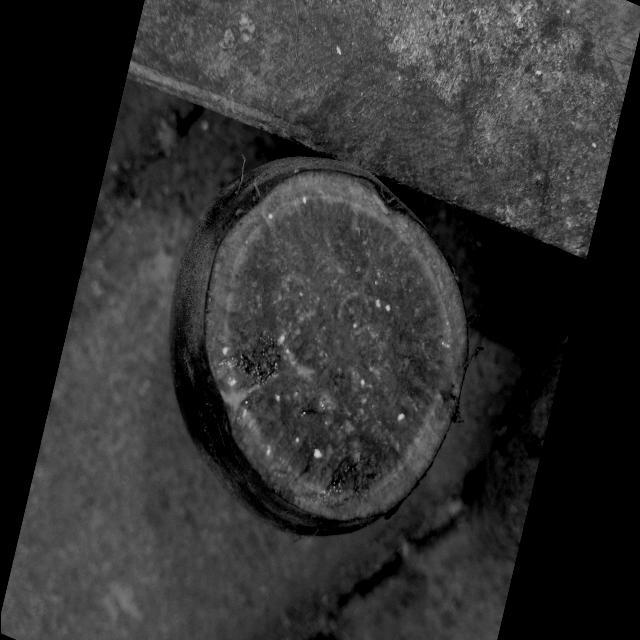Healthy Sweet Potato: (204, 170, 466, 520)
